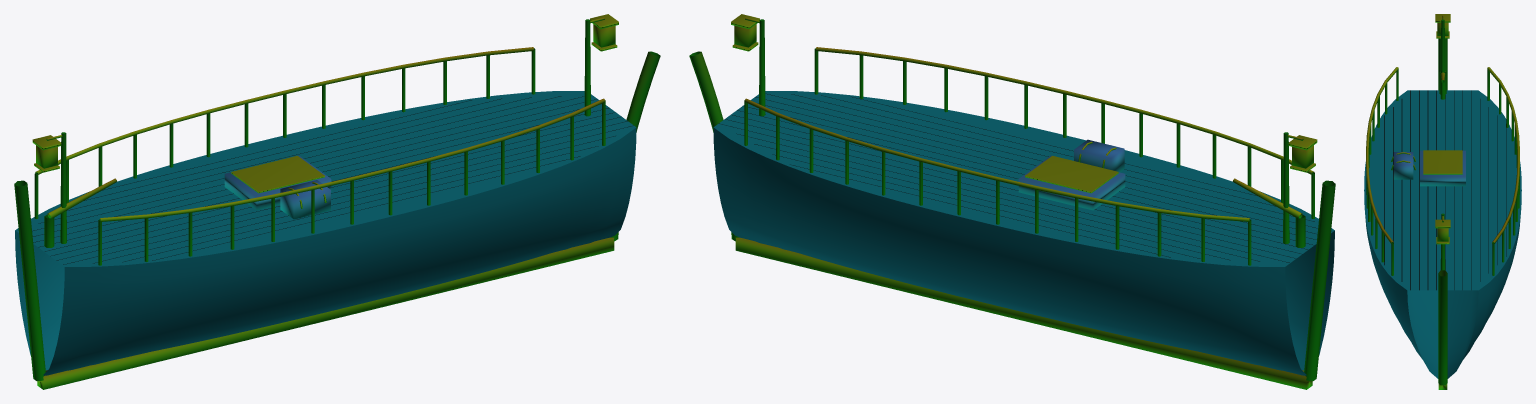
The model's file is kite_hull.glb.
3 views of the same model, side by side, from view 1: azimuth 30°, elevation 25°; view 2: azimuth 150°, elevation 25°; view 3: azimuth 270°, elevation 25° (orthographic). The views are drawn at different scales.
Visible parts, largest first — view 1: kite_hull; view 2: kite_hull; view 3: kite_hull.
Boxes of the visible parts, x1,y1,x2,y2 form: kite_hull: [14, 14, 660, 389]; kite_hull: [689, 14, 1335, 389]; kite_hull: [1364, 14, 1521, 389].
Size of what is drawn, in the model's own units: 13.5 by 4.99 by 4.
